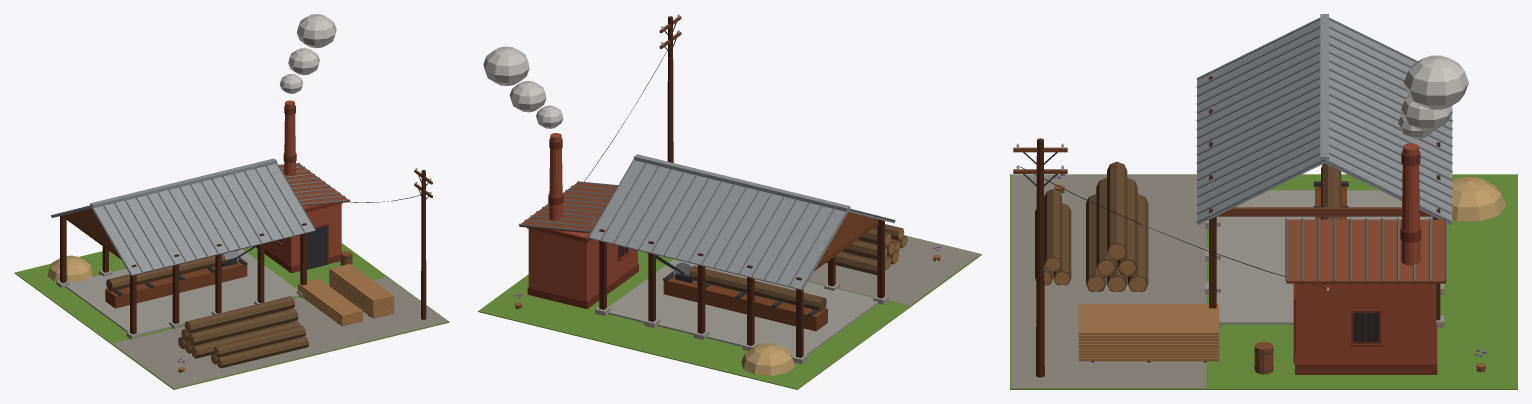
Rendered from factory_2.glb.
3 views of the same model, side by side, from view 1: azimuth 30°, elevation 25°; view 2: azimuth 150°, elevation 25°; view 3: azimuth 270°, elevation 25° (orthographic). The views are drawn at different scales.
Visible parts, largest first — view 1: body; view 2: body; view 3: body, windows.
Part boxes in pixels (x1,y1,x2,y2): body: [14, 14, 449, 389]; body: [478, 14, 981, 389]; body: [1010, 14, 1517, 389]; windows: [1353, 313, 1378, 341].
Size of the model in its own units: 16.92 by 11.7 by 15.9.
